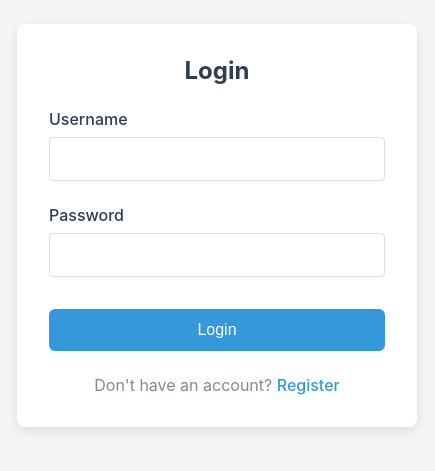
Scenario: Login Component › displays error on login failure
The width and height of the screenshot is (435, 471).
Type "testuser" into the field labelled "Username". click: (217, 158)
box: [49,136,385,180]
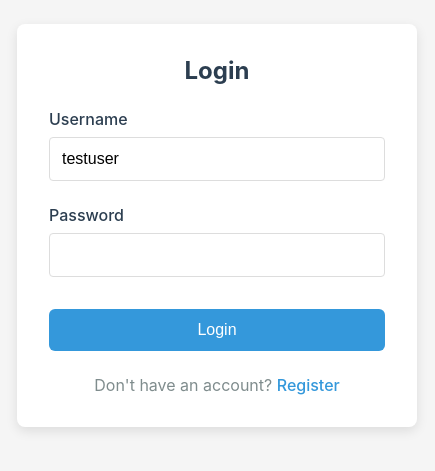
Type "wrongpassword" into the password field labelled "Password". click: (217, 254)
box: [49,232,385,276]
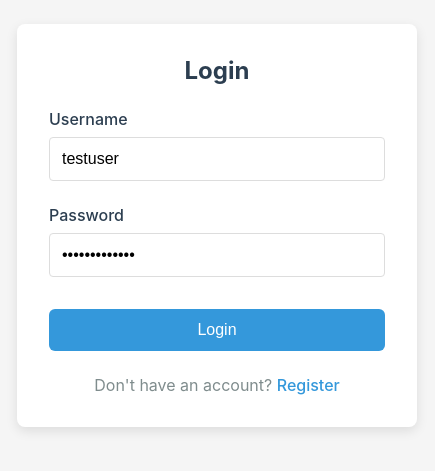
Click the button "Login". click: (217, 330)
box: [49,308,385,350]
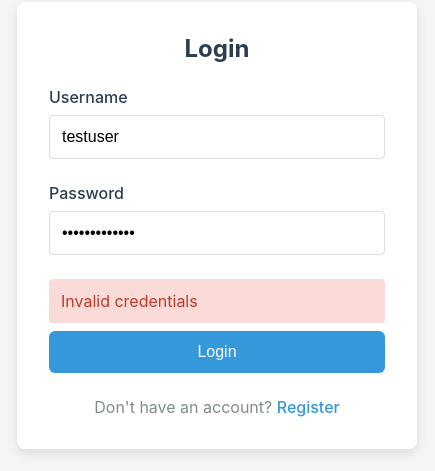
expect the text "Invalid credentials" is shown: met, box [49,278,385,322]
